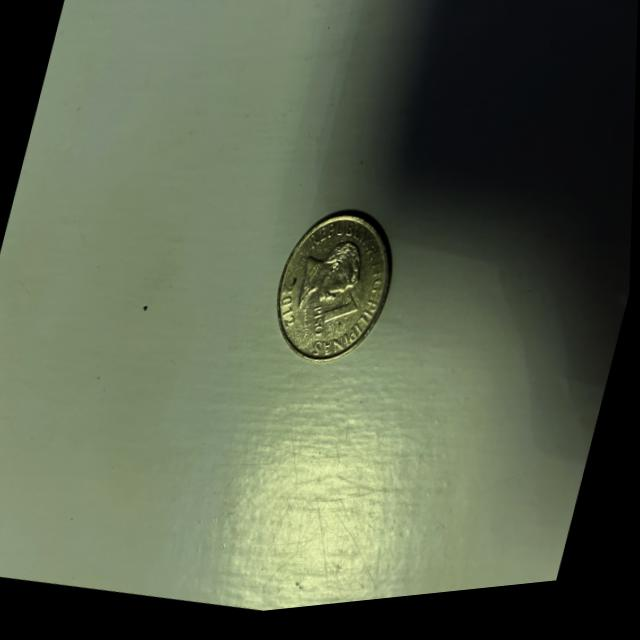1_Old_Front: (307, 288, 366, 351)
